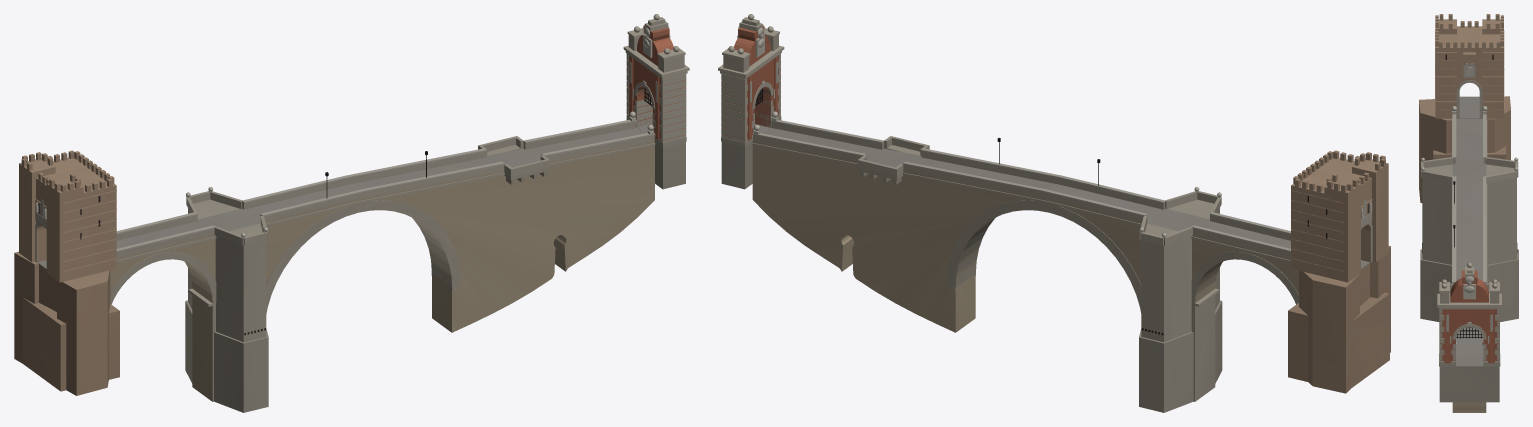
3 views of the same model, side by side, from view 1: azimuth 30°, elevation 25°; view 2: azimuth 150°, elevation 25°; view 3: azimuth 270°, elevation 25° (orthographic). The views are drawn at different scales.
Visible parts, largest first — view 1: puente_de_alcantara; view 2: puente_de_alcantara; view 3: puente_de_alcantara.
Part boxes in pixels (x1,y1,x2,y2): puente_de_alcantara: [14, 14, 689, 412]; puente_de_alcantara: [718, 14, 1390, 412]; puente_de_alcantara: [1419, 14, 1518, 412].
Bounding box in the file's own units: 95.35 × 38.82 × 15.4.
